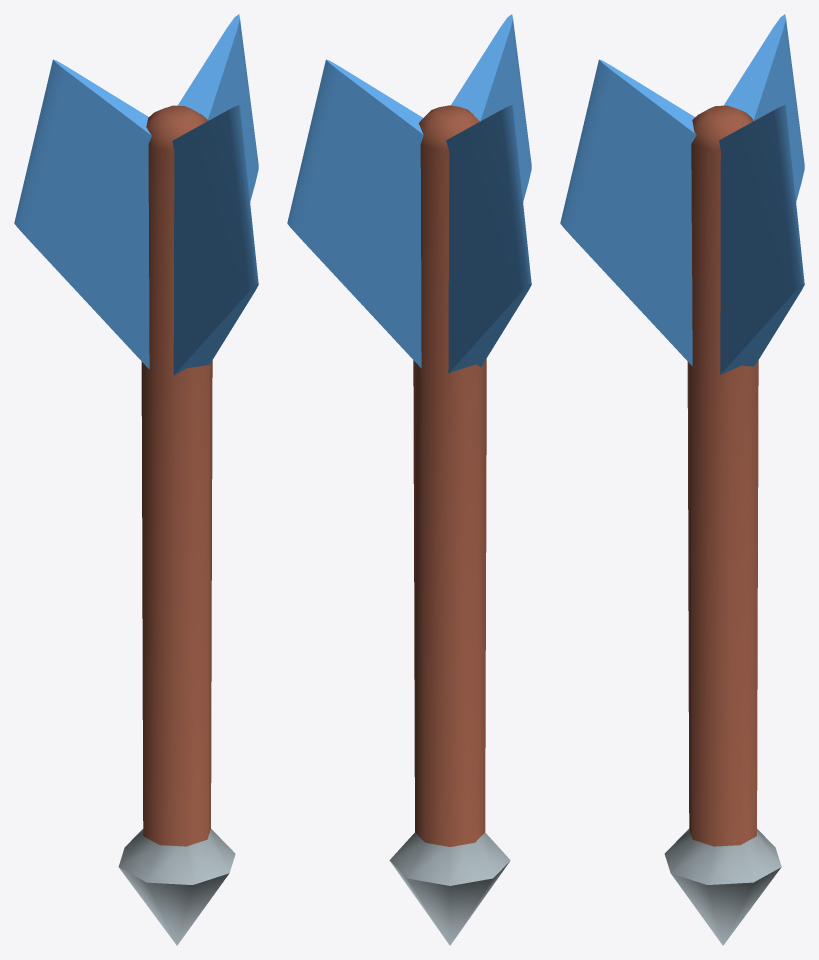
File: arrow_teamBlue.glb
The picture shows the model from 3 angles, left to right: view 1: azimuth 30°, elevation 25°; view 2: azimuth 150°, elevation 25°; view 3: azimuth 270°, elevation 25°; orthographic projection.
Visible parts, largest first — view 1: arrow_teamBlue; view 2: arrow_teamBlue; view 3: arrow_teamBlue.
Boxes of the visible parts, x1,y1,x2,y2 form: arrow_teamBlue: (14, 14, 258, 945); arrow_teamBlue: (287, 14, 531, 945); arrow_teamBlue: (560, 14, 804, 945).
Bounding box in the file's own units: 0.107 × 0.3709 × 0.0927.
